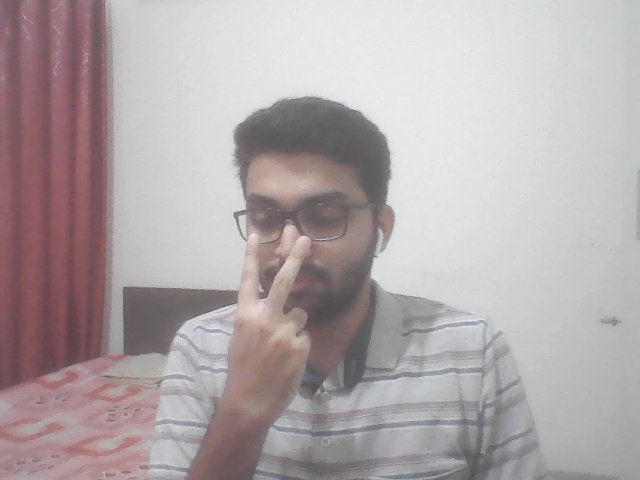see: (199, 213, 331, 454)
